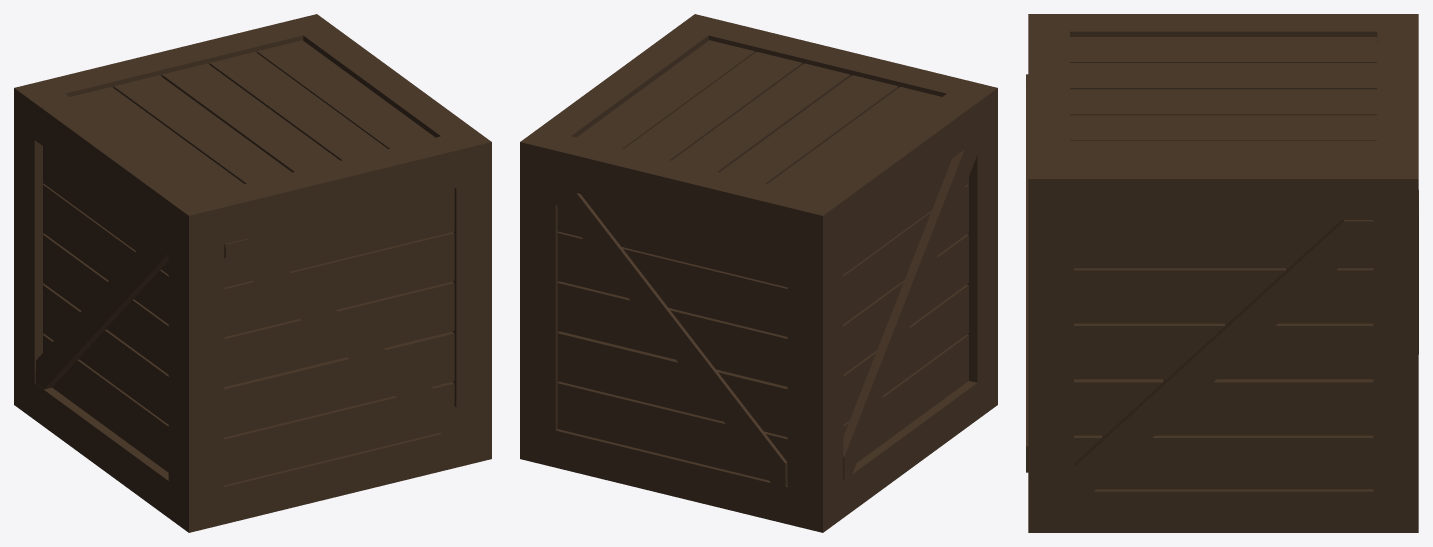
Rendered from crate_01.fbx.
The picture shows the model from 3 angles, left to right: view 1: azimuth 30°, elevation 25°; view 2: azimuth 150°, elevation 25°; view 3: azimuth 270°, elevation 25°; orthographic projection. The views are drawn at different scales.
Visible parts, largest first — view 1: crate_01; view 2: crate_01; view 3: crate_01.
Boxes of the visible parts, bbox=[...] form: crate_01: bbox=[14, 14, 491, 532]; crate_01: bbox=[520, 14, 997, 532]; crate_01: bbox=[1026, 14, 1418, 532].
Bounding box in the file's own units: 21.58 × 21.44 × 21.56.
